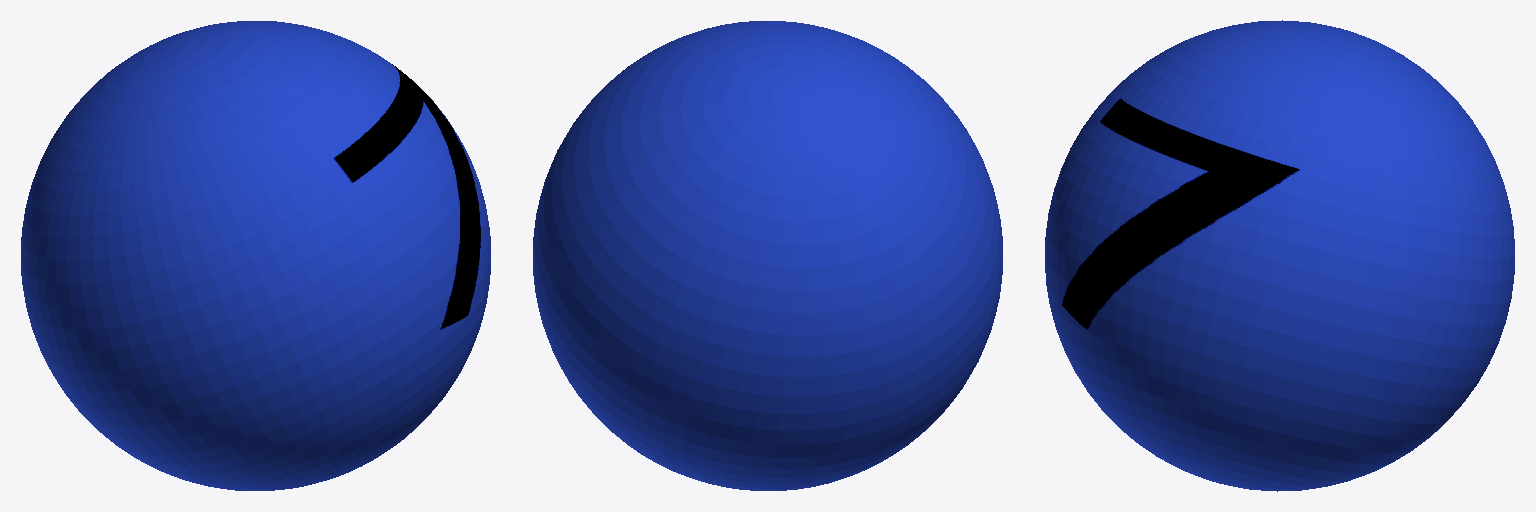
3 views of the same model, side by side, from view 1: azimuth 30°, elevation 25°; view 2: azimuth 150°, elevation 25°; view 3: azimuth 270°, elevation 25° (orthographic).
Visible parts, largest first — view 1: Sphere; view 2: Sphere; view 3: Sphere.
Boxes of the visible parts, x1,y1,x2,y2 form: Sphere: [21, 21, 490, 490]; Sphere: [533, 21, 1002, 490]; Sphere: [1045, 20, 1514, 491].
Bounding box in the file's own units: 2 × 2 × 2.
1 materials, 1 textured.